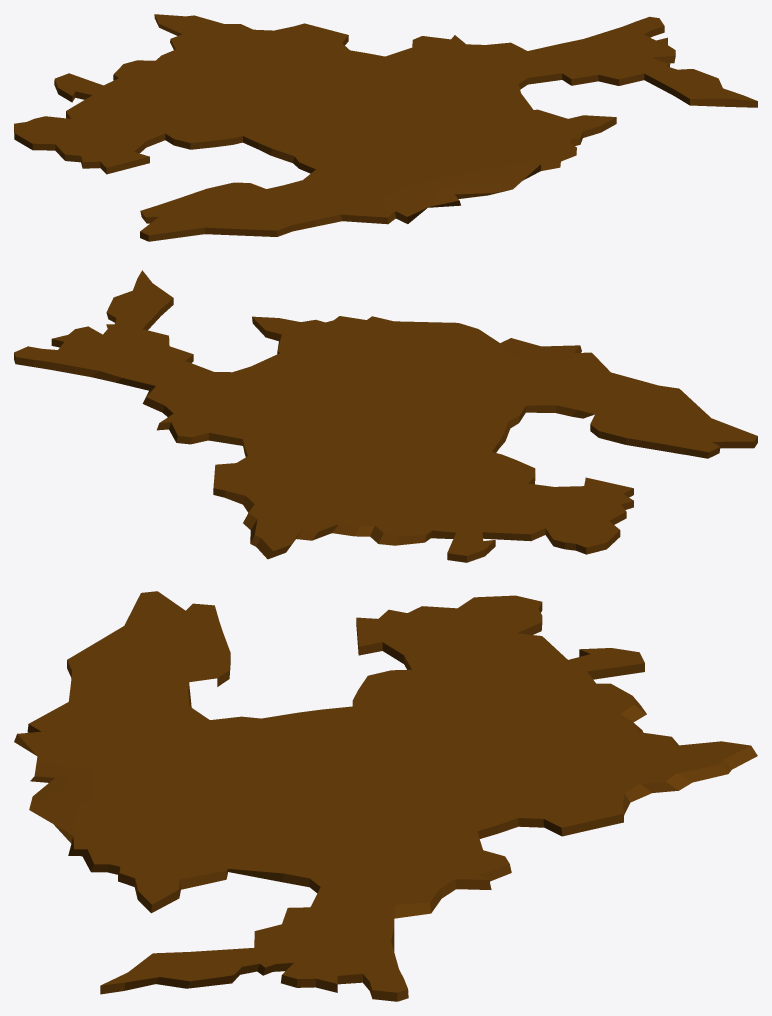
The model's file is MSH_Escenario_TestV1.fbx.
3 views of the same model, one above another, from view 1: azimuth 30°, elevation 25°; view 2: azimuth 150°, elevation 25°; view 3: azimuth 270°, elevation 25° (orthographic). The views are drawn at different scales.
Parts seen in each view (by area): view 1: MSH_Escenario_test1; view 2: MSH_Escenario_test1; view 3: MSH_Escenario_test1.
Part boxes in pixels (x1,y1,x2,y2): MSH_Escenario_test1: [14, 14, 757, 241]; MSH_Escenario_test1: [14, 270, 757, 562]; MSH_Escenario_test1: [14, 591, 757, 1001].
Bounding box in the file's own units: 21456 × 242 × 16785.
